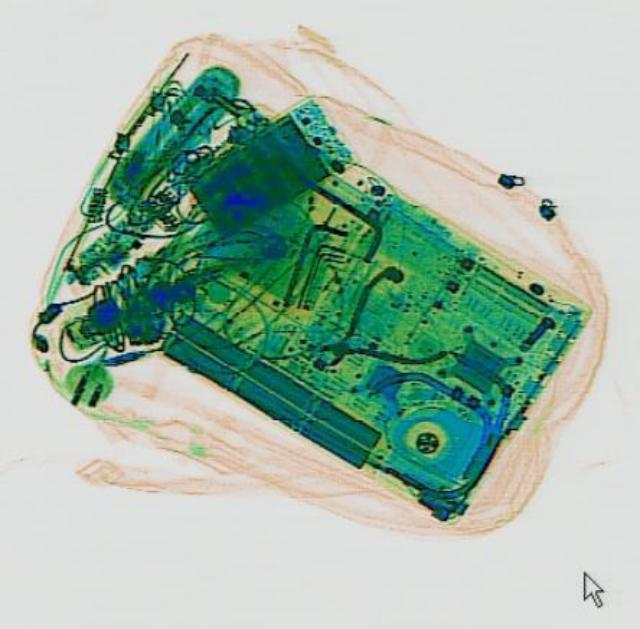Pliers: (290, 261, 452, 400)
